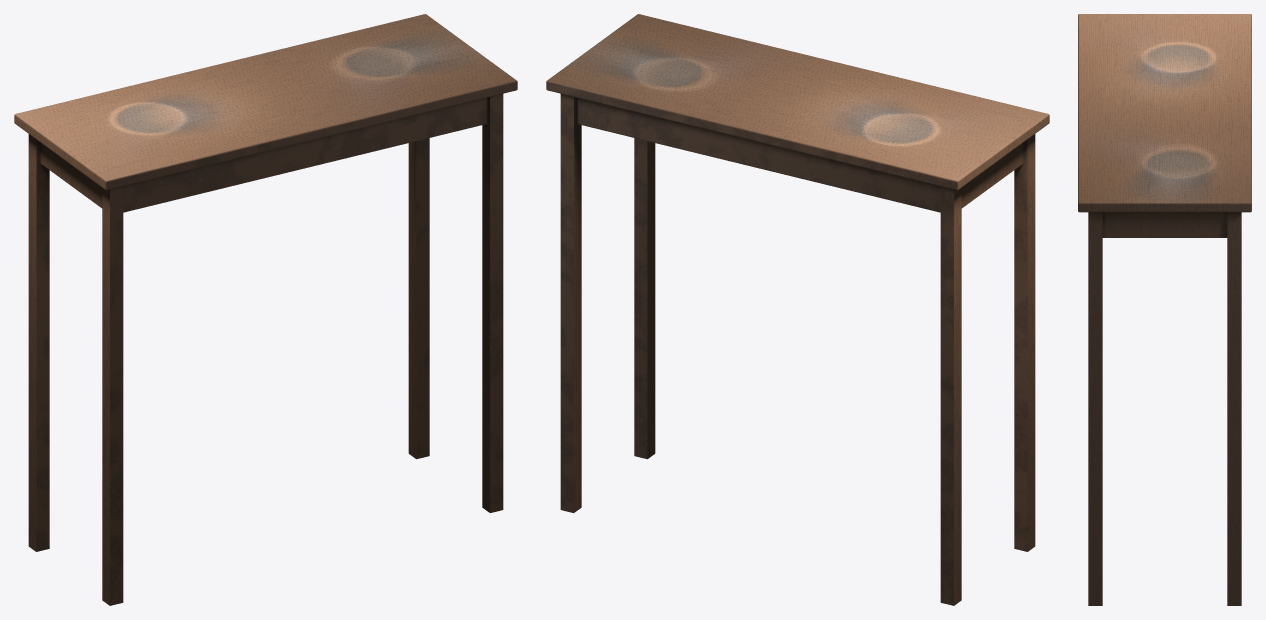
Rendered from 806_bench.glb.
The picture shows the model from 3 angles, left to right: view 1: azimuth 30°, elevation 25°; view 2: azimuth 150°, elevation 25°; view 3: azimuth 270°, elevation 25°; orthographic projection. The views are drawn at different scales.
Visible parts, largest first — view 1: Table; view 2: Table; view 3: Table.
Part boxes in pixels (bbox=[...]): Table: bbox=[14, 14, 517, 605]; Table: bbox=[546, 14, 1049, 605]; Table: bbox=[1078, 14, 1251, 605].
Size of what is drawn, in the model's own units: 3.1 by 3.1 by 1.2.
Materials: 1 (1 with a texture image).
